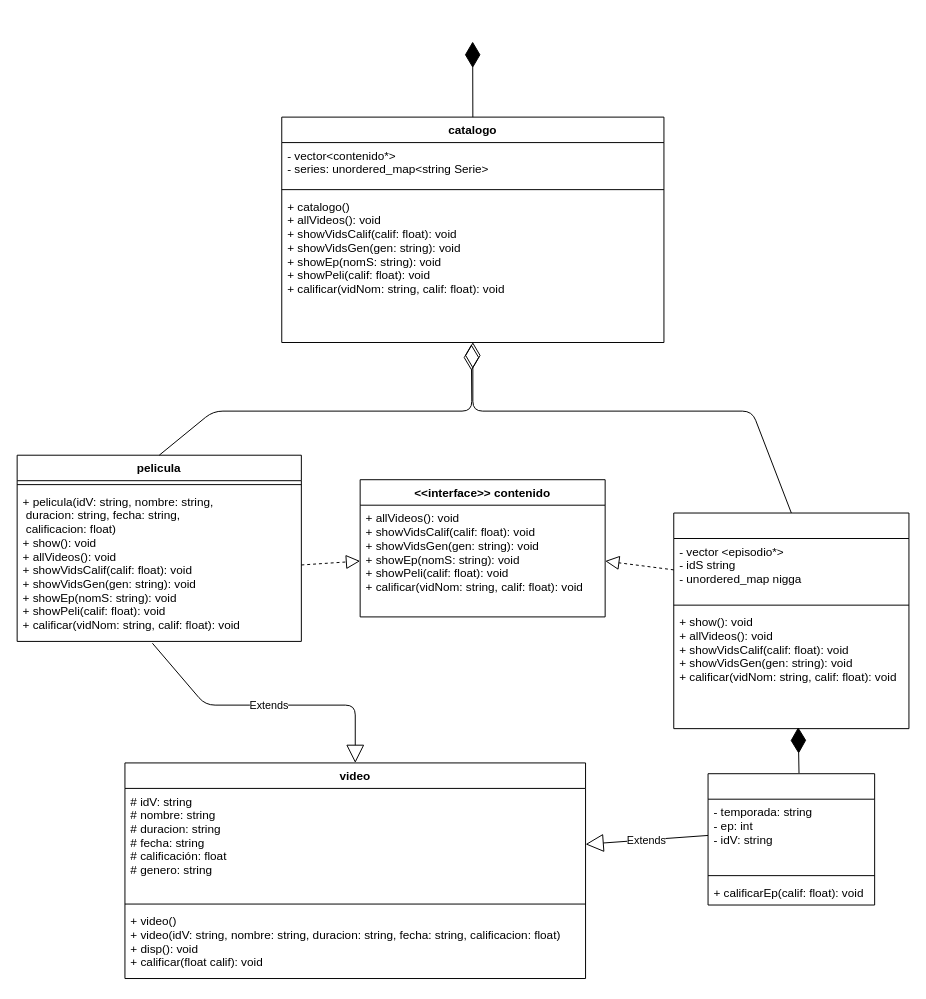
This 926x999 diagram has some shape labels left out. The box of each missing label's shape, as (x1, y1, x2, y2) in pixels:
episodio: (707, 773, 875, 905)
serie: (673, 512, 909, 729)
